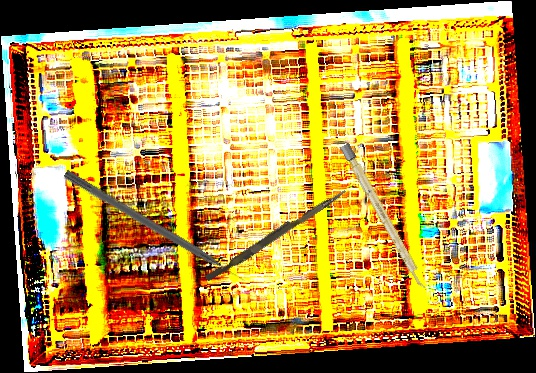Pusher: (61, 169, 248, 287), (204, 184, 348, 285)
Scalpel Handle: (339, 142, 429, 292)
